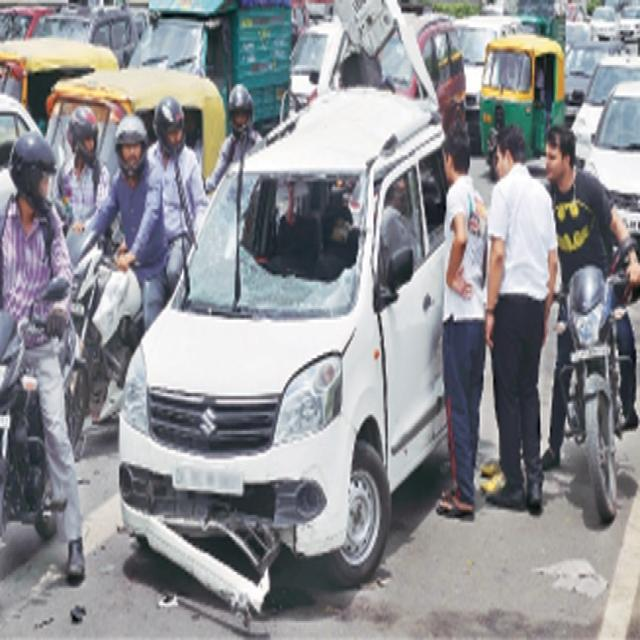accident: (119, 86, 448, 610)
motorcycle: (542, 126, 640, 521)
